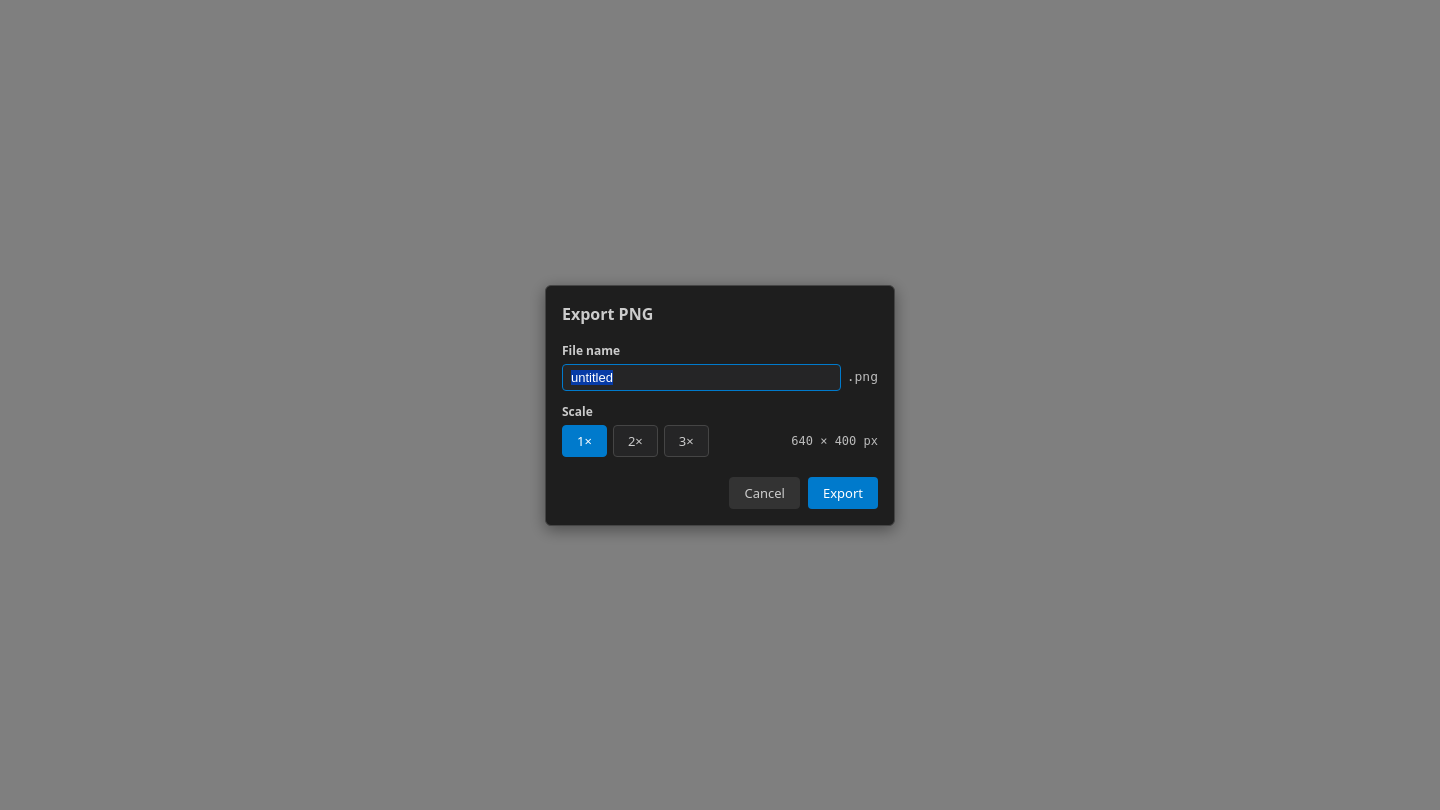
Scenario: PngExportDialog › clears error once the user types a valid name
Clear the field with test id "png-export-filename" at (701, 377), box [562,364,841,390]
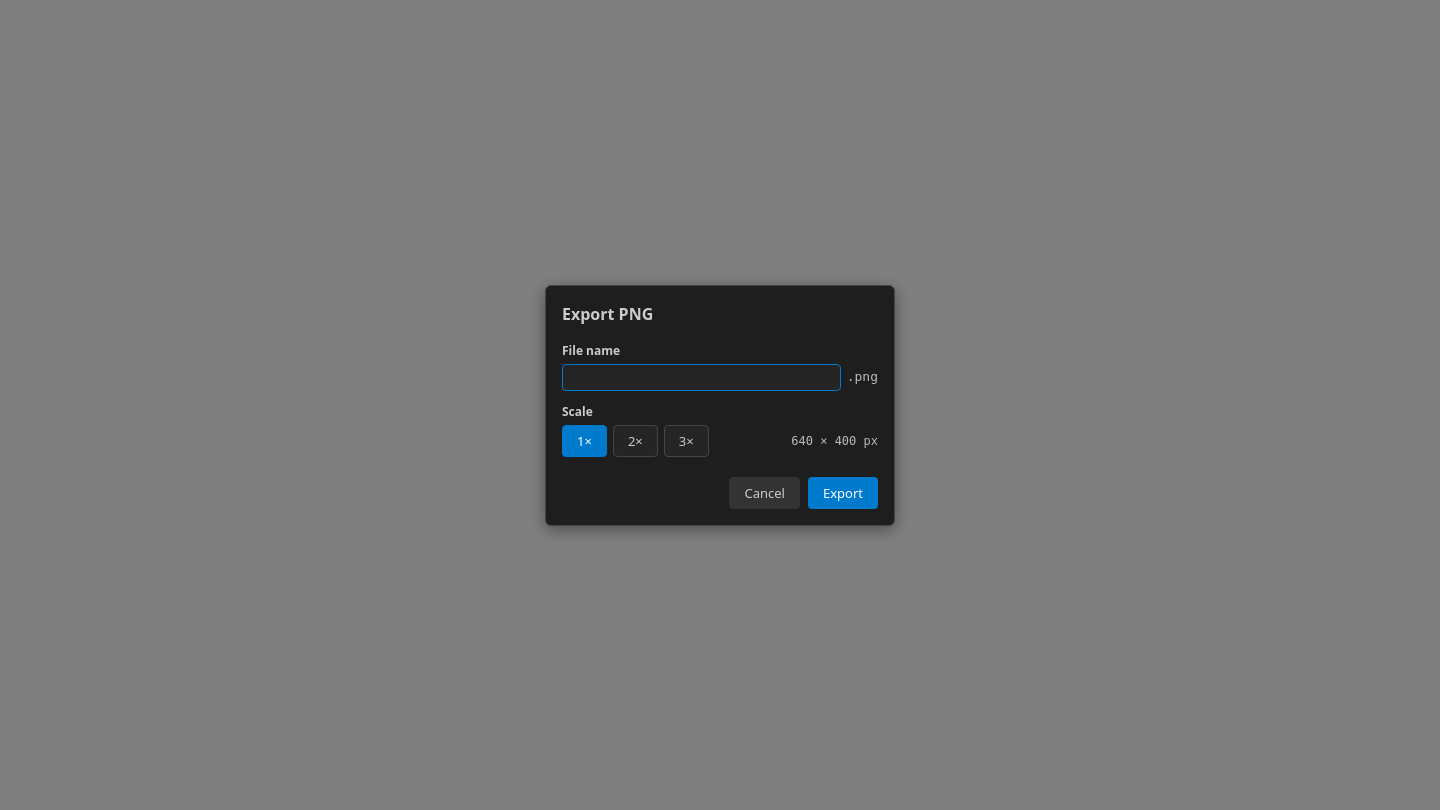
Click the button with test id "png-export-confirm".
click(843, 492)  # box [808,476,878,508]
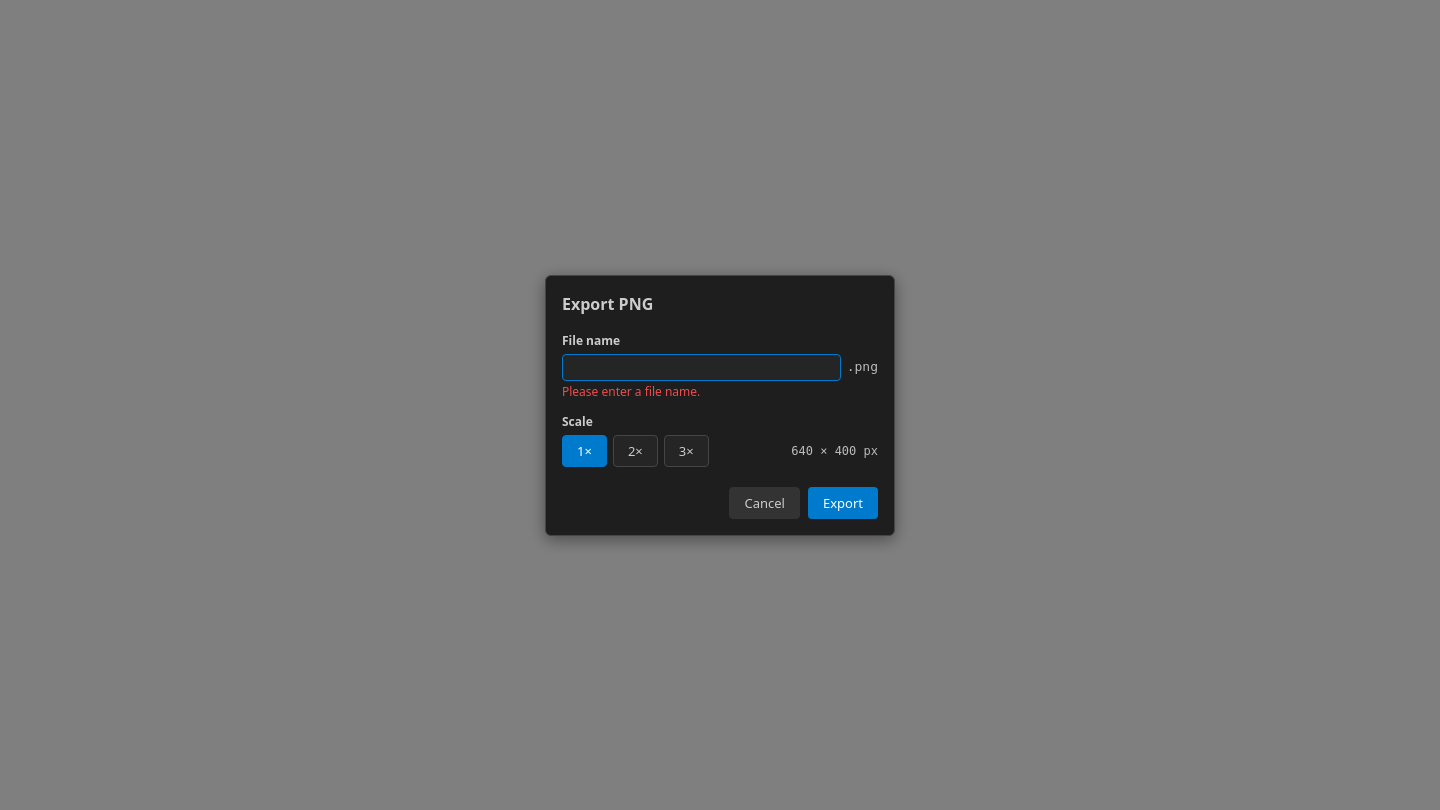
Check: the text "Please enter a file name." is shown, box [562,382,700,400]
Type "x" into the field with test id "png-export-filename".
click(701, 367); type("x")  # box [562,354,841,380]
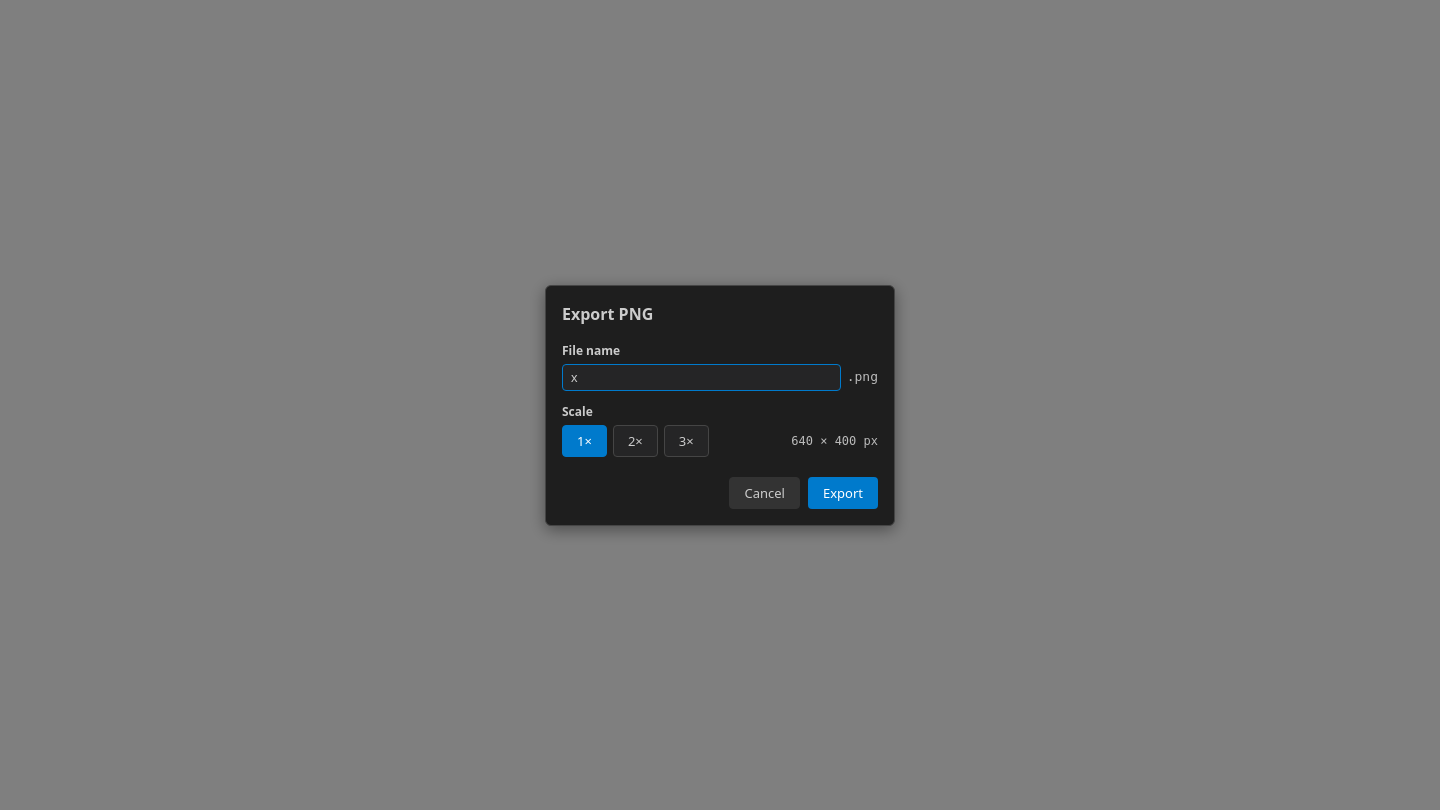
Check: the text with test id "png-export-error" is gone
